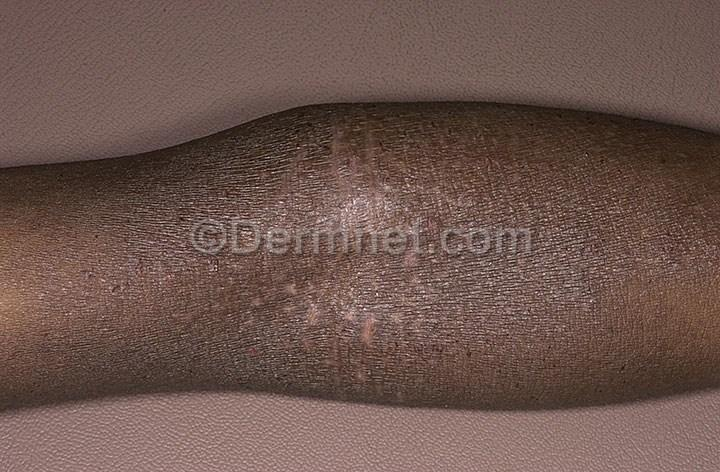excoriacion 1: (248, 121, 481, 409)
exudacion 1: (243, 121, 496, 416)
liquenificacion 2: (0, 118, 719, 443)
xerosis 3: (0, 120, 716, 419)
